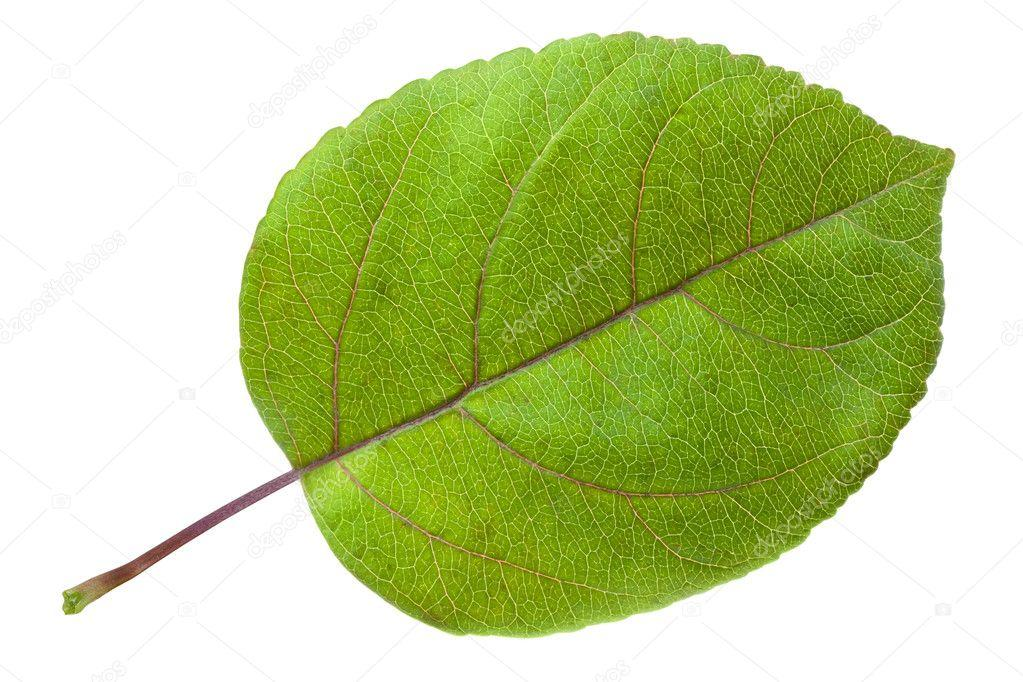Apple leaf: (213, 14, 970, 659)
